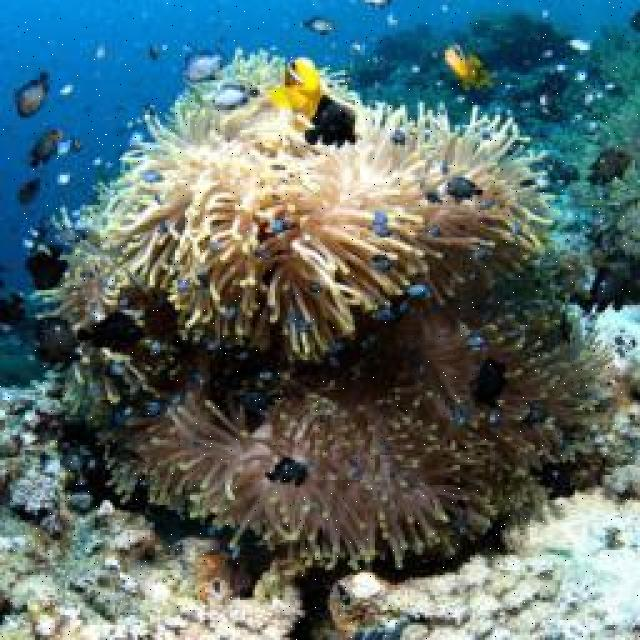fish: (268, 57, 325, 117), (302, 96, 359, 148), (78, 310, 146, 353), (32, 316, 84, 372), (445, 43, 498, 90), (23, 245, 70, 290), (584, 149, 632, 188), (14, 72, 49, 119), (180, 48, 226, 82), (207, 84, 262, 111), (264, 456, 308, 486), (32, 127, 63, 168), (445, 178, 484, 204)
reefs: (98, 272, 622, 571), (52, 98, 560, 363)
